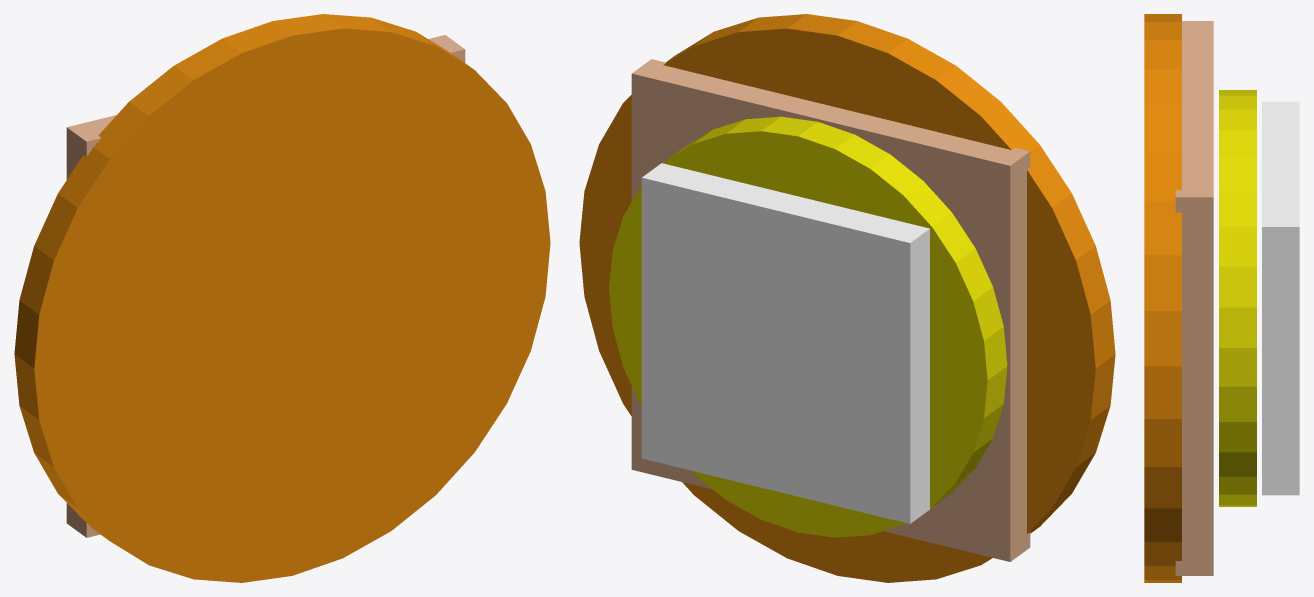
The model's file is Simetría.fbx.
3 views of the same model, side by side, from view 1: azimuth 30°, elevation 25°; view 2: azimuth 150°, elevation 25°; view 3: azimuth 270°, elevation 25° (orthographic). The views are drawn at different scales.
Visible parts, largest first — view 1: Cylinder.002; view 2: Cylinder.002; view 3: Cylinder.002.
Boxes of the visible parts, <box> form: Cylinder.002: <box>14,14,550,582</box>; Cylinder.002: <box>579,14,1115,582</box>; Cylinder.002: <box>1144,14,1299,582</box>.
Bounding box in the file's own units: 600 × 600 × 164.
